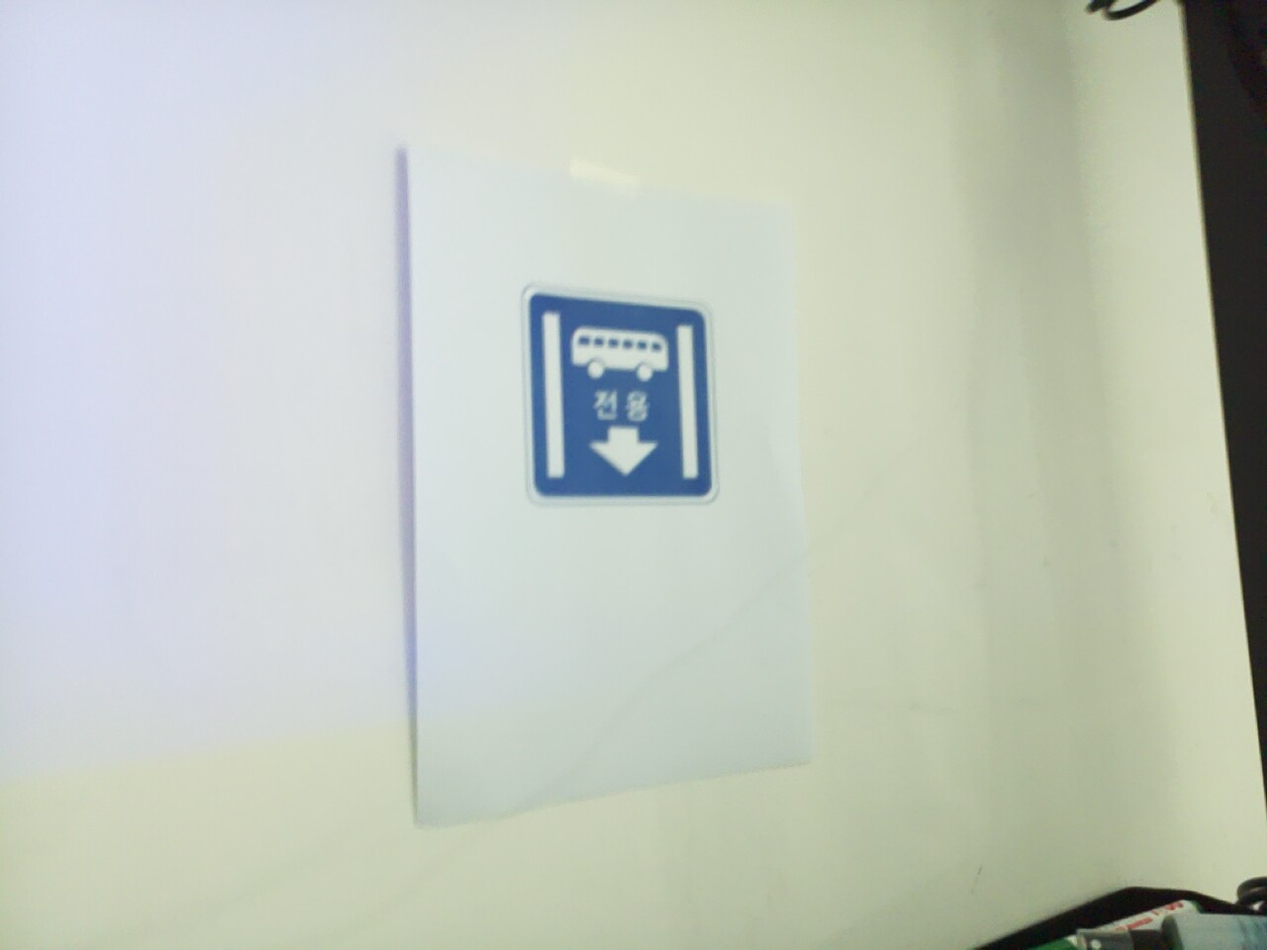bus_only_lane: (522, 285, 719, 506)
